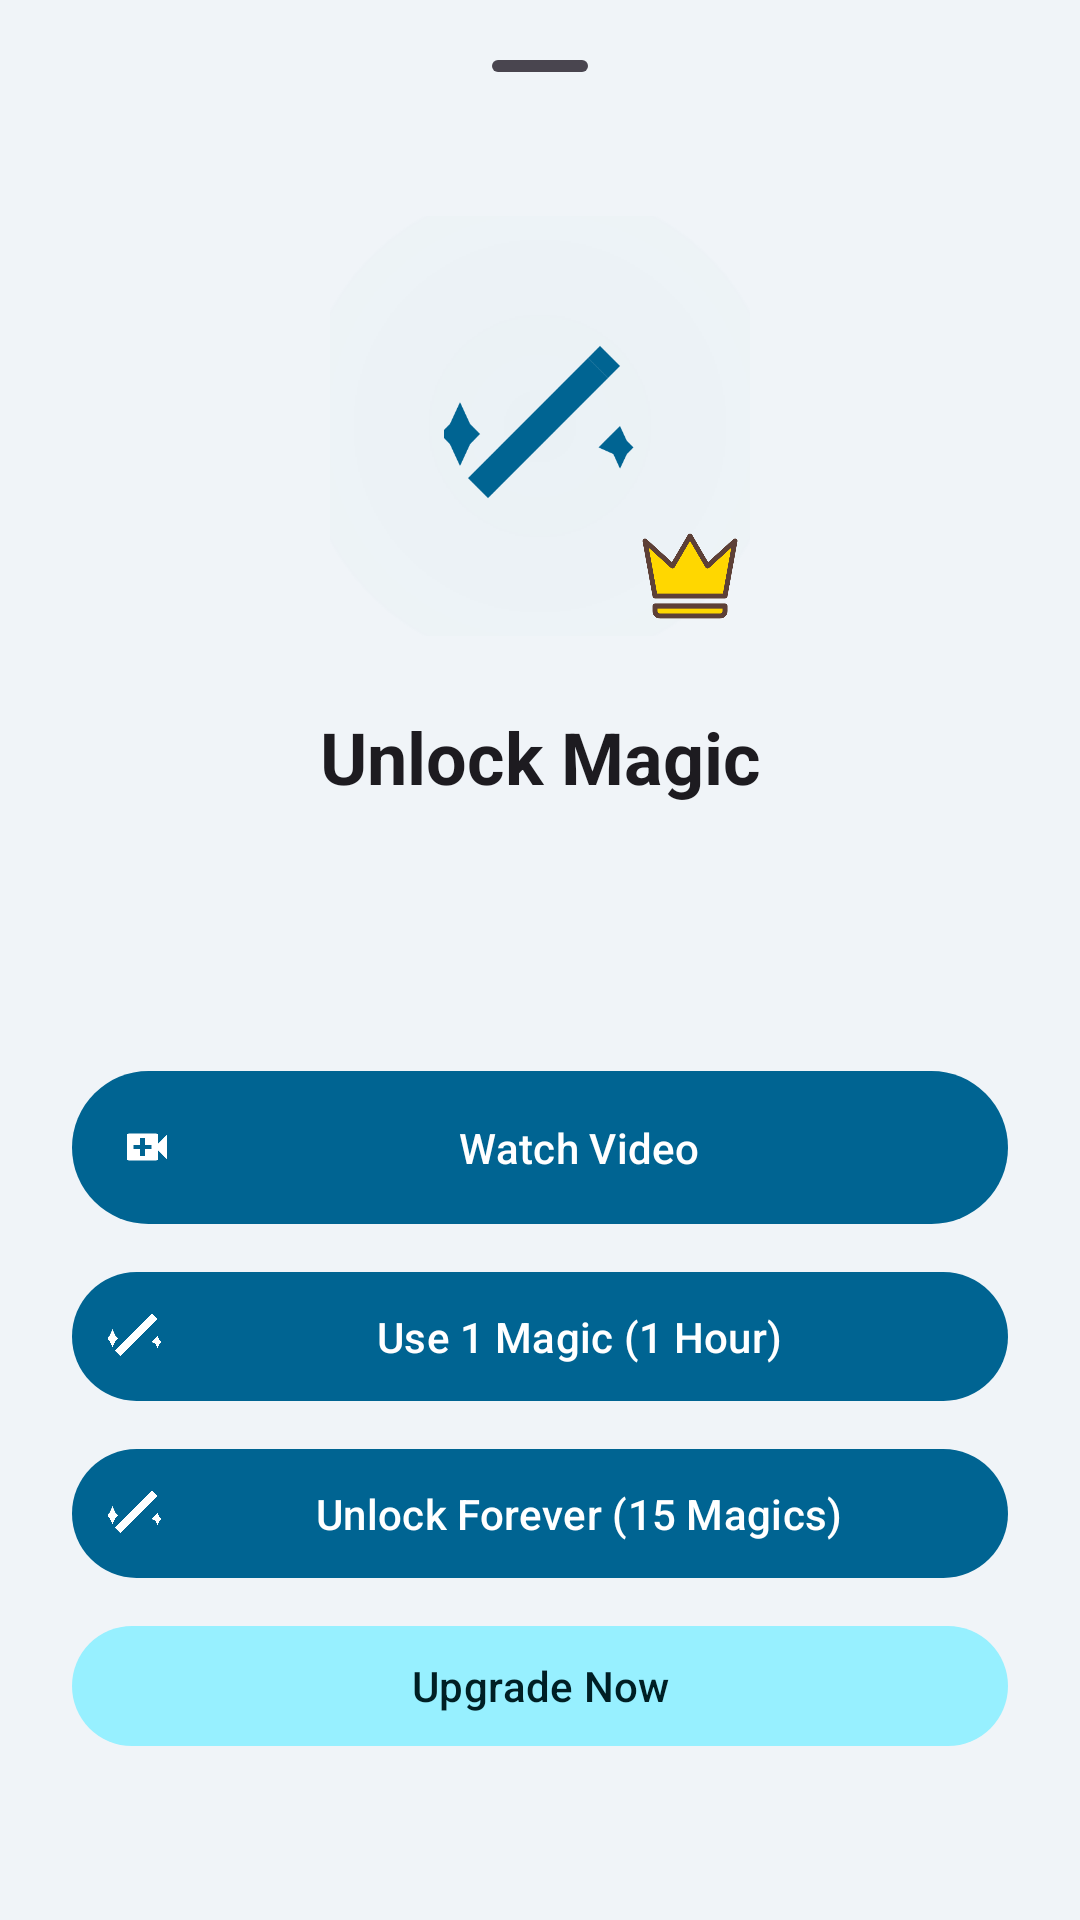

Icons on this 1080px x 1920px Android screen, each with its box as (x1, y1, x2, y2):
crown: (642, 533, 738, 619)
magic wand: (444, 346, 634, 498)
